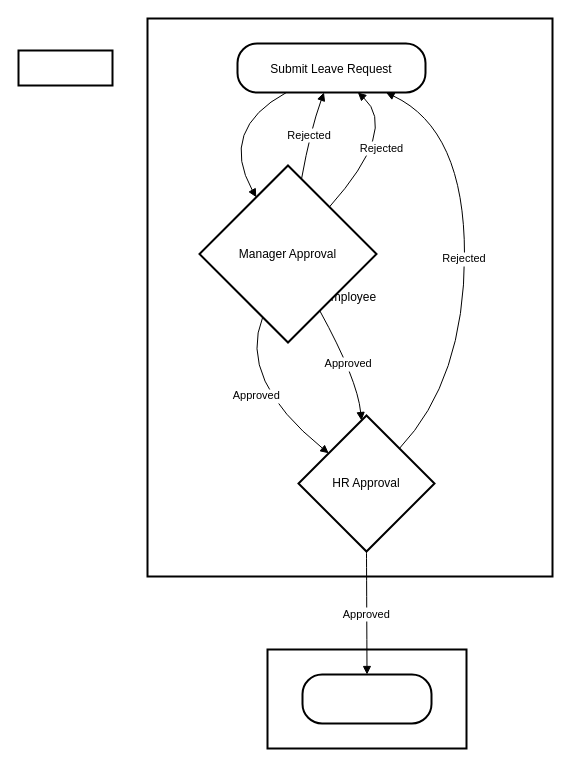
This 570x766 diagram has some shape labels left out. Each missing label, with the centre of its shape:
Manager: the point at 65,67
Process Leave: the point at 366,698
